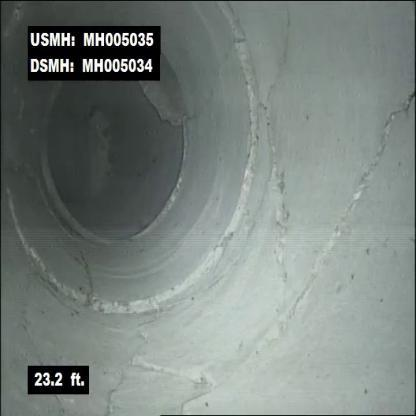crack: (313, 90, 414, 288), (105, 337, 217, 415), (258, 104, 300, 300), (258, 1, 300, 100)
